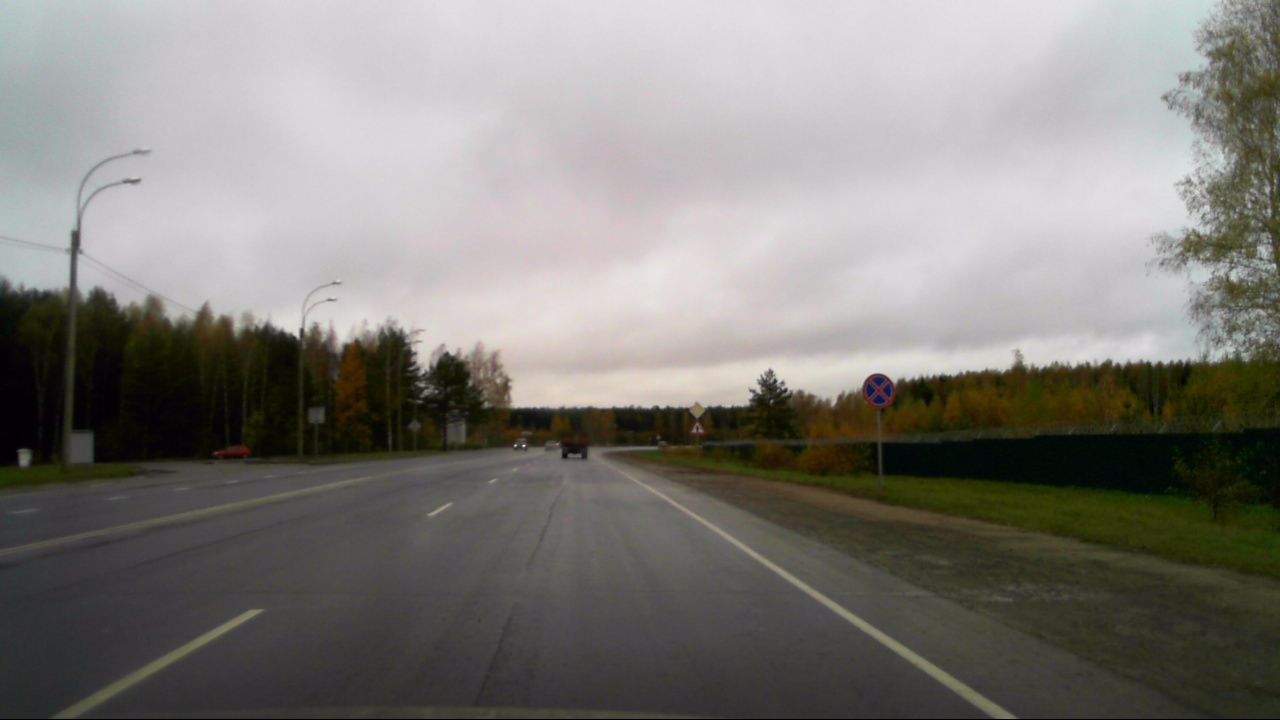No Parking: (861, 371, 897, 410)
